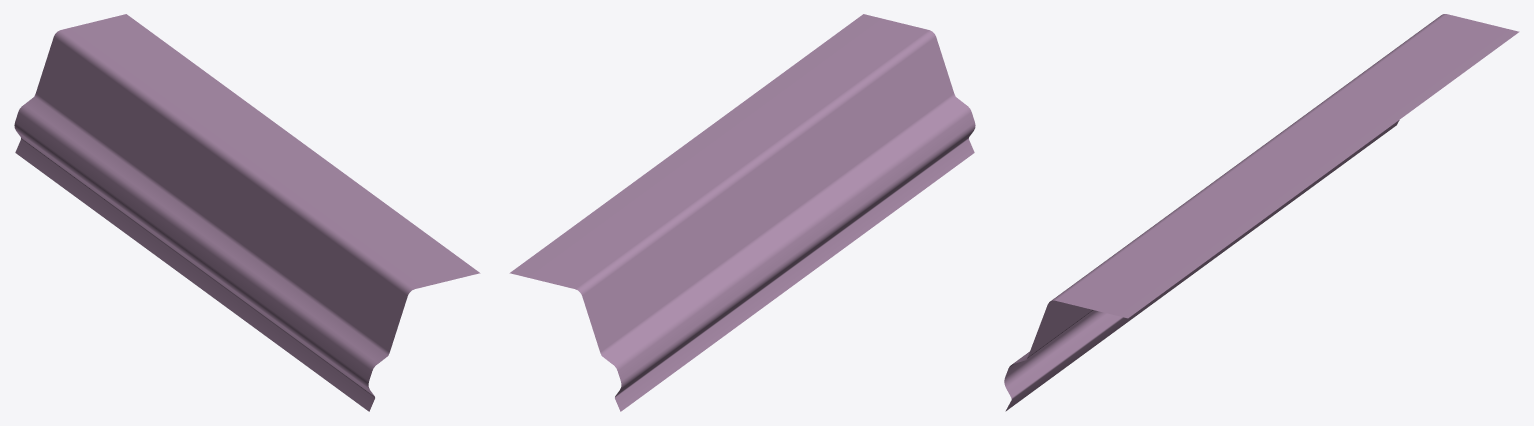
Rendered from 6x wall overlay.fbx.
3 renders of one model, left to right at view 1: azimuth 30°, elevation 25°; view 2: azimuth 150°, elevation 25°; view 3: azimuth 330°, elevation 25°, orthographic. The views are drawn at different scales.
Parts seen in each view (by area): view 1: pCube111; view 2: pCube111; view 3: pCube111.
Boxes of the visible parts, <box> form: pCube111: <box>14,14,480,411</box>; pCube111: <box>509,14,975,411</box>; pCube111: <box>1004,14,1519,411</box>.
Size of the model in its own units: 110 by 104 by 600.
